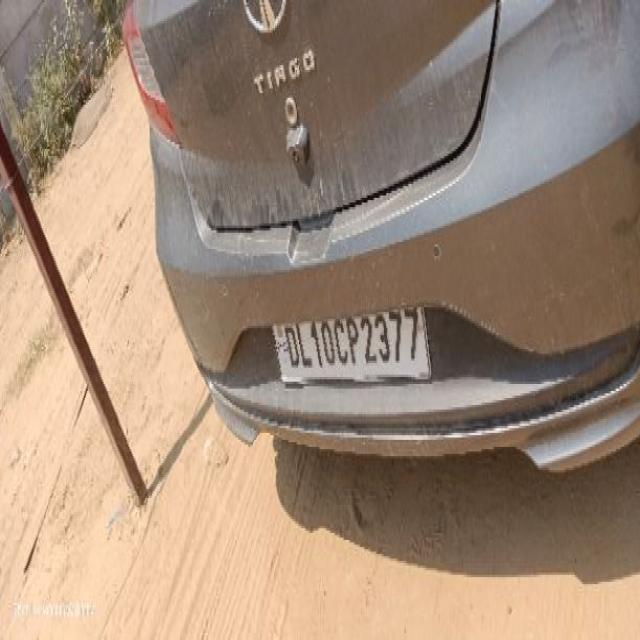license_plate: (122, 0, 638, 472), (271, 303, 432, 384)
